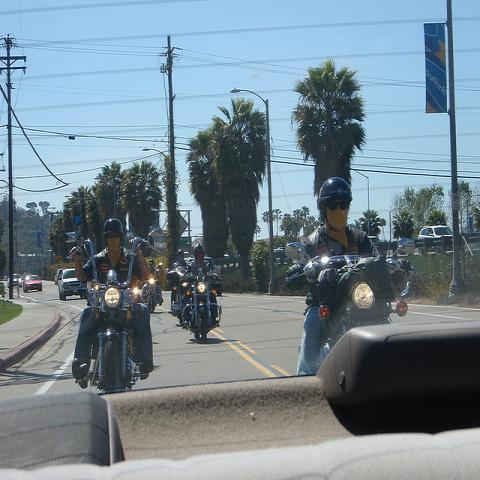car: (419, 225, 470, 254), (57, 268, 89, 301), (23, 274, 42, 292), (367, 234, 381, 248), (8, 274, 22, 287), (22, 273, 32, 286), (186, 258, 195, 266)
motorcycle: (60, 217, 172, 395), (285, 238, 415, 337), (182, 274, 223, 341), (168, 265, 188, 319), (144, 262, 164, 313)
